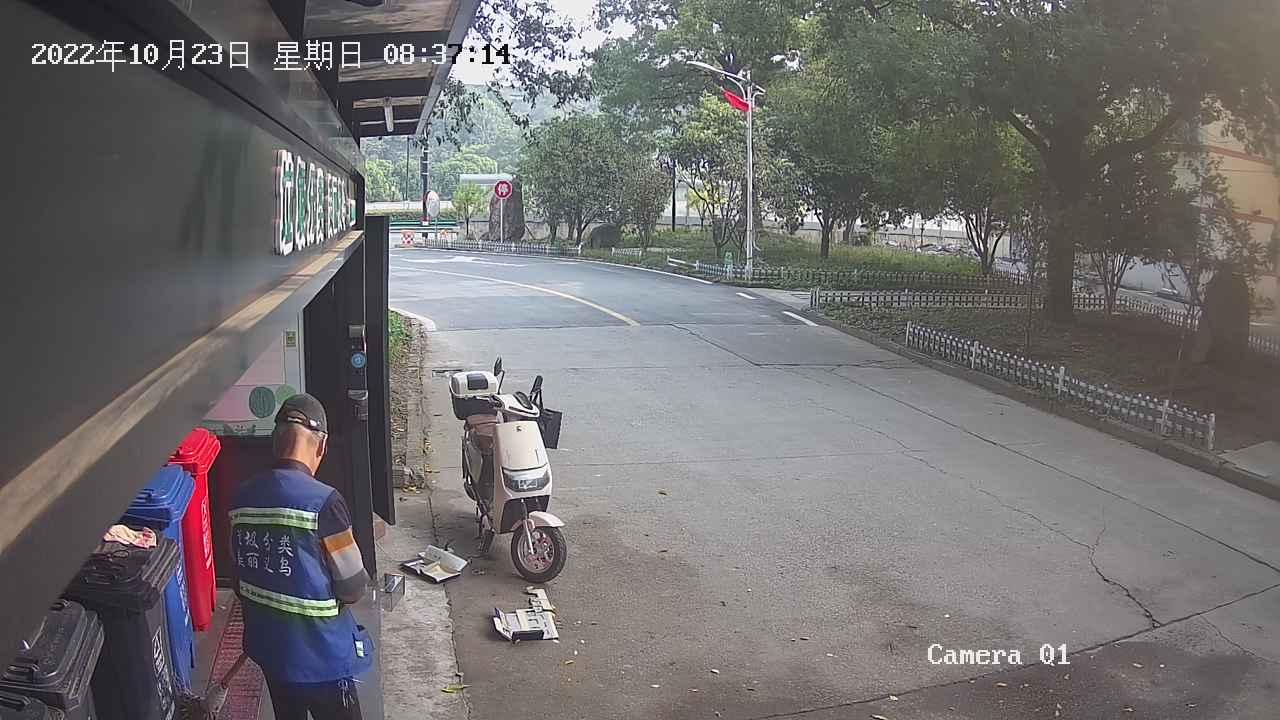worker: (220, 386, 378, 720)
zhizhipin: (486, 582, 565, 645), (399, 538, 473, 586)
